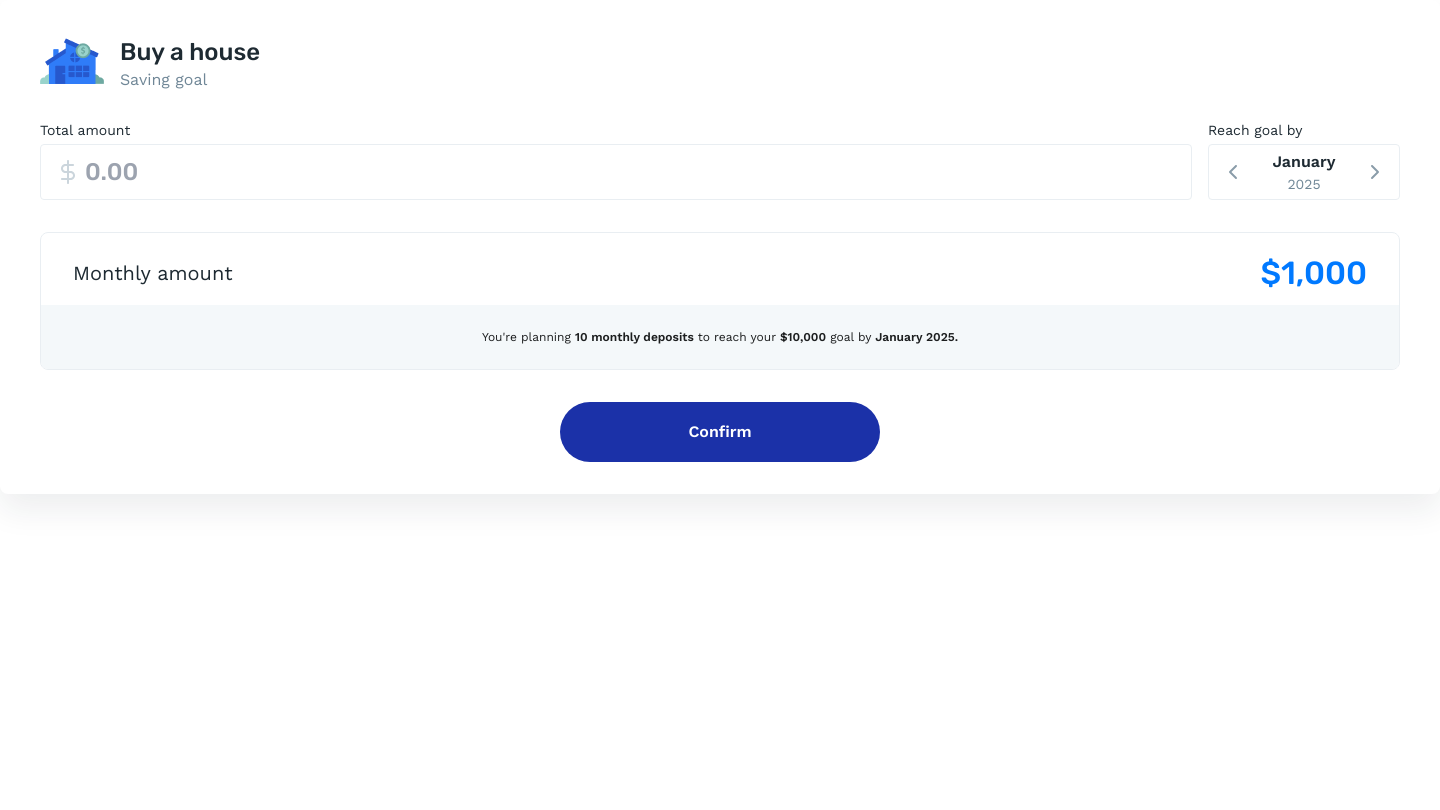
Scenario: SavingsGoalCard › should display modal when button is clicked
# Click the Confirm button
Click the button with test id "confirm-button": (720, 432) [560,402,880,462]
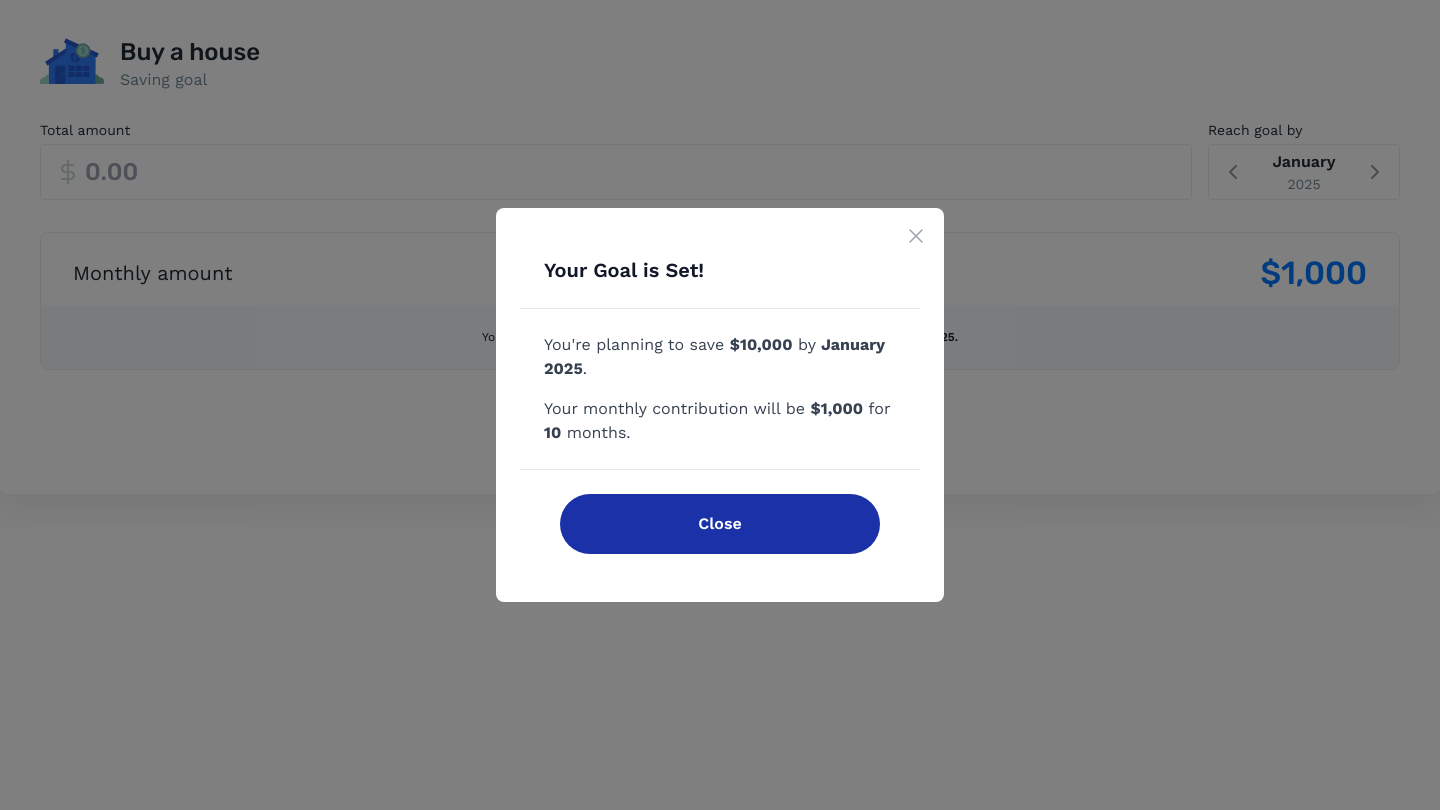
Expected: the element with test id "modal-container" is shown, [496,208,944,602]
